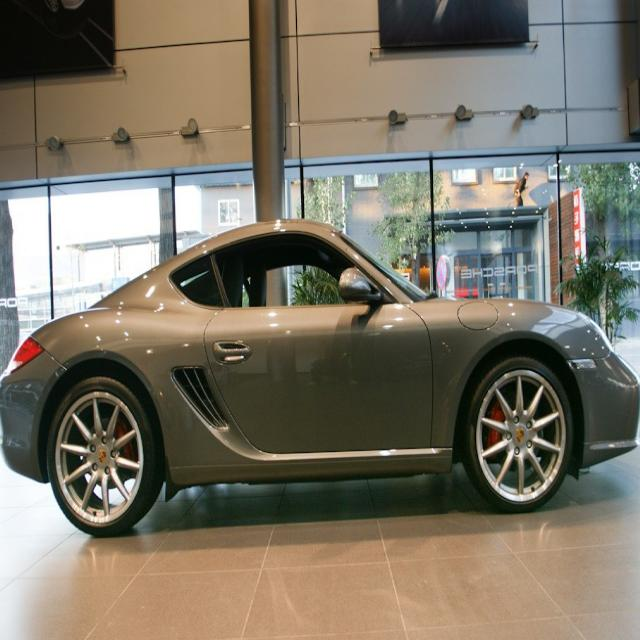back_right_side_light: (7, 331, 47, 375)
front_bumper: (564, 339, 640, 478)
front_right_side_door: (204, 221, 434, 455)
front_right_side_mirror: (338, 264, 382, 308)
rear_bumper: (0, 325, 71, 487)
wheel: (48, 372, 163, 536), (466, 353, 572, 512)
